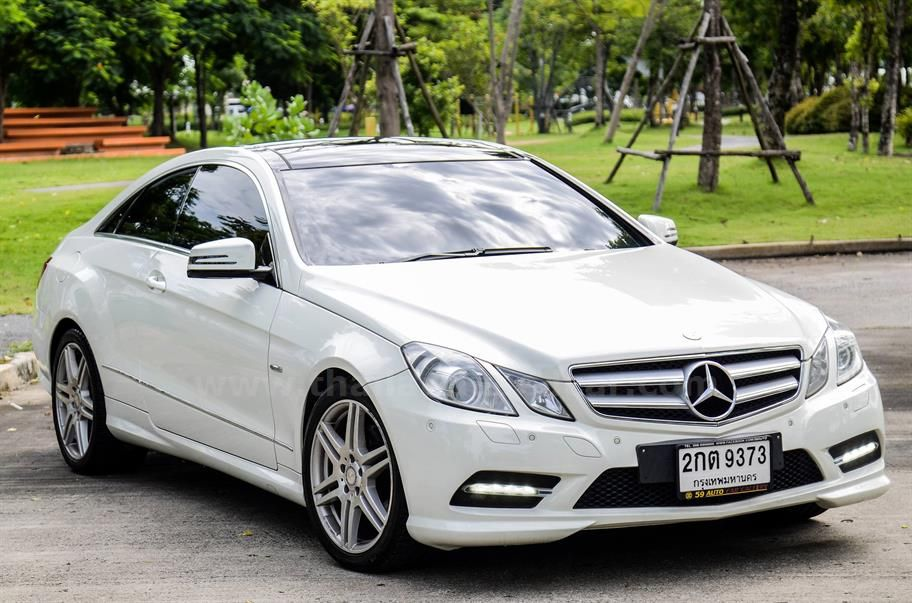sedan: (25, 133, 900, 567)
